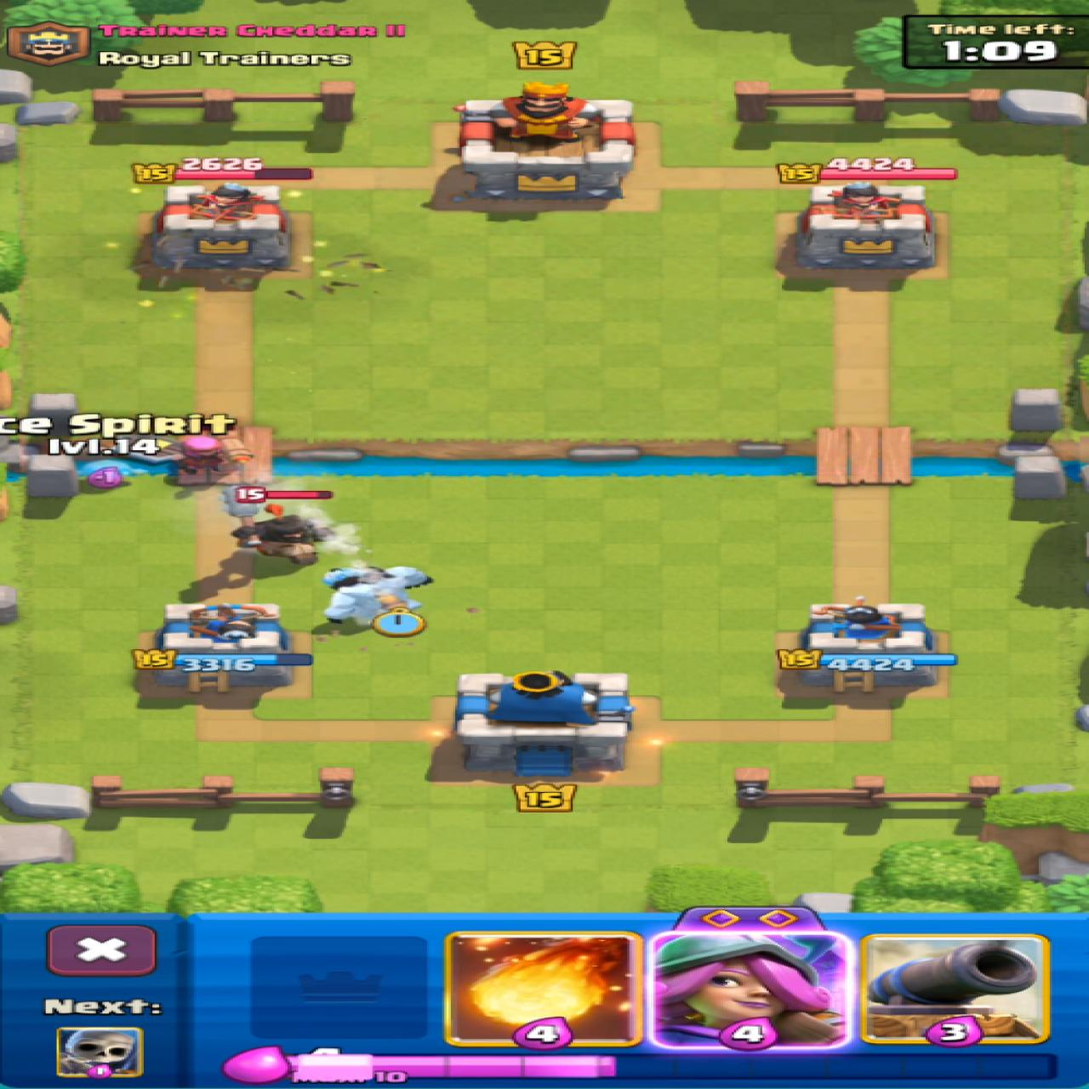Enemy-DarkPrince-Charge: (220, 485, 333, 564)
Enemy-Firecracker: (163, 435, 250, 484)
Enemy-KingTower: (460, 82, 634, 198)
Enemy-PrincessTower: (139, 183, 292, 285), (797, 182, 932, 276)
